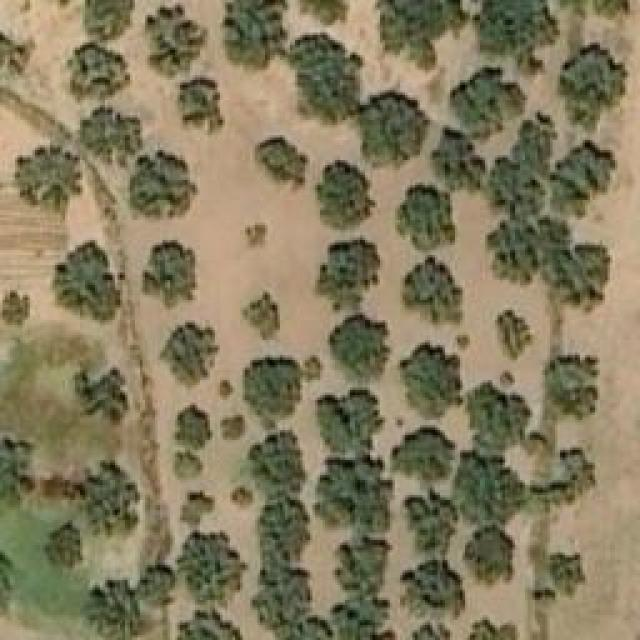Tree: (462, 0, 559, 72), (378, 0, 468, 68), (55, 238, 120, 321), (315, 388, 388, 461), (178, 530, 248, 605), (313, 235, 383, 310), (243, 355, 323, 420), (290, 35, 355, 115), (360, 93, 425, 168), (452, 458, 520, 528), (325, 313, 393, 383), (143, 5, 208, 78), (468, 380, 531, 455), (130, 150, 198, 218), (317, 465, 385, 533), (453, 60, 518, 128), (158, 320, 221, 390), (315, 158, 375, 231), (398, 345, 458, 418), (565, 48, 618, 123), (545, 245, 610, 305), (553, 143, 606, 216), (143, 240, 198, 310), (80, 108, 143, 168), (485, 223, 548, 283), (18, 145, 78, 208), (70, 43, 130, 103), (398, 180, 453, 245), (85, 580, 143, 640), (220, 0, 275, 62), (488, 155, 541, 218), (250, 430, 305, 490), (405, 562, 460, 620), (433, 128, 486, 188), (75, 367, 128, 425), (540, 358, 595, 413), (253, 570, 308, 625), (175, 75, 225, 135), (88, 468, 133, 533), (260, 498, 305, 563), (255, 138, 308, 193), (398, 428, 453, 481), (330, 538, 383, 593), (403, 255, 456, 308), (0, 435, 38, 505), (337, 597, 390, 640), (410, 495, 453, 545), (545, 550, 588, 598), (177, 610, 245, 640), (498, 310, 538, 360), (280, 0, 355, 25), (85, 0, 133, 38), (242, 292, 280, 340), (175, 403, 213, 448), (45, 523, 83, 568), (470, 533, 508, 578), (135, 563, 175, 605), (269, 617, 332, 640), (178, 493, 211, 528), (467, 617, 517, 640), (0, 290, 28, 328), (172, 450, 200, 480), (405, 620, 443, 640), (220, 415, 248, 440), (245, 223, 268, 248), (217, 380, 235, 400)
